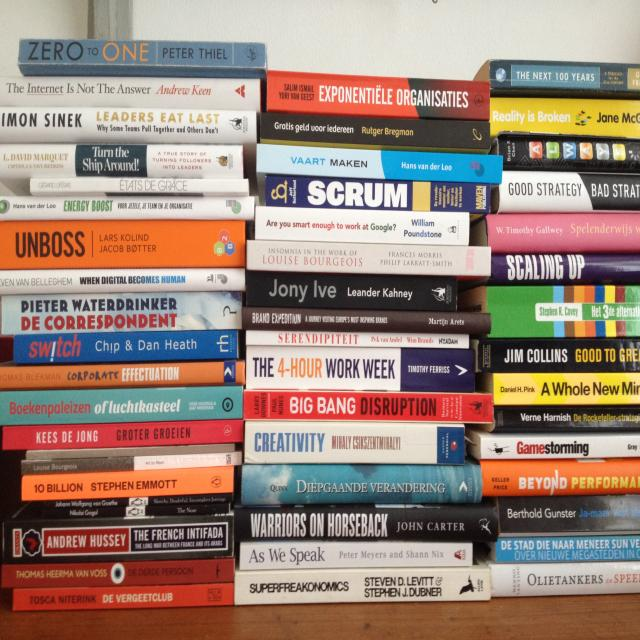book-spines: (245, 348, 475, 393), (256, 144, 503, 184), (246, 271, 457, 312), (0, 79, 260, 112), (2, 419, 244, 450), (19, 38, 266, 68), (30, 178, 249, 191)
